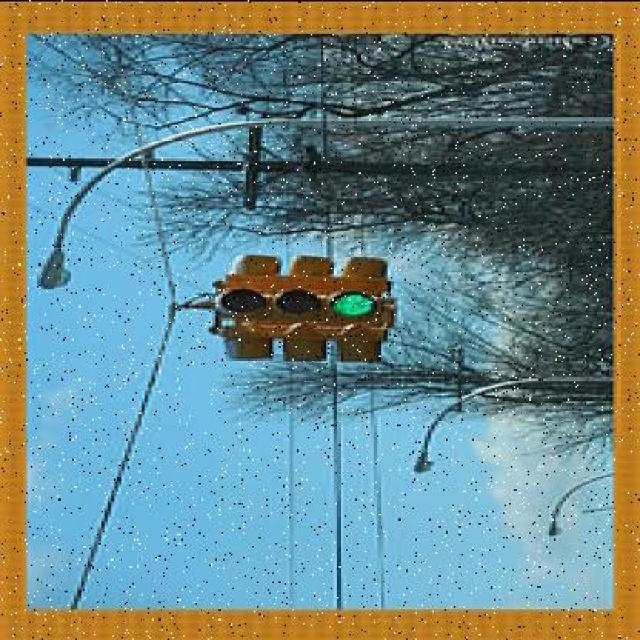green-light: (200, 249, 466, 379)
